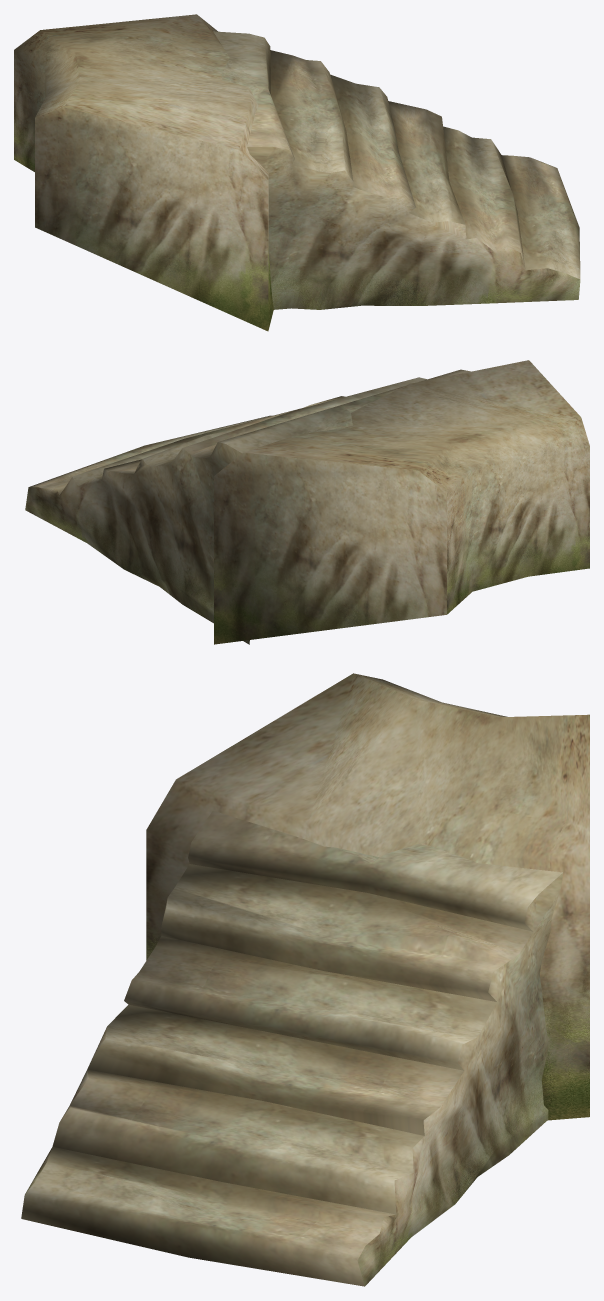
Rendered from a_SWTsetA.glb.
3 renders of one model, top to bottom at view 1: azimuth 30°, elevation 25°; view 2: azimuth 150°, elevation 25°; view 3: azimuth 270°, elevation 25°, orthographic. The views are drawn at different scales.
Parts seen in each view (by area): view 1: a_SWTsetA; view 2: a_SWTsetA; view 3: a_SWTsetA.
Boxes of the visible parts, bbox=[...] form: a_SWTsetA: bbox=[14, 14, 580, 331]; a_SWTsetA: bbox=[25, 360, 589, 644]; a_SWTsetA: bbox=[21, 673, 589, 1286].
Size of the model in its own units: 10.02 by 3.69 by 6.89.
3 materials, 3 textured.
